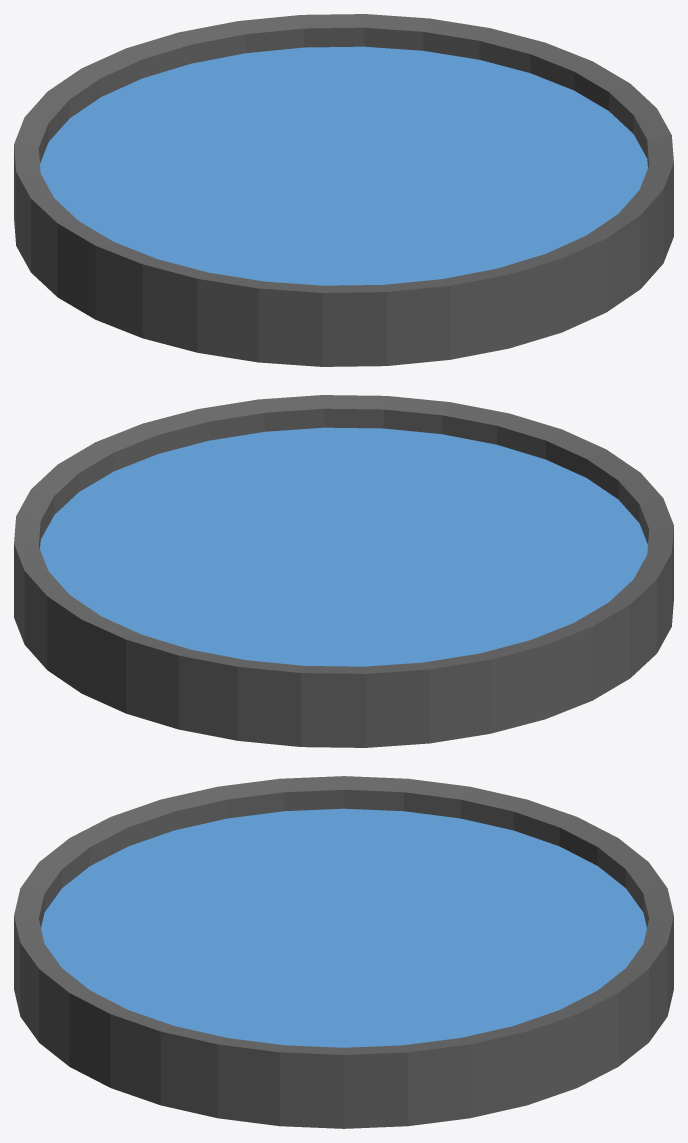
Rendered from clock.fbx.
3 views of the same model, one above another, from view 1: azimuth 30°, elevation 25°; view 2: azimuth 150°, elevation 25°; view 3: azimuth 270°, elevation 25° (orthographic).
Parts seen in each view (by area): view 1: Circle; view 2: Circle; view 3: Circle.
Part boxes in pixels (x1,y1,x2,y2): Circle: (14, 14, 673, 366); Circle: (14, 395, 673, 747); Circle: (14, 776, 673, 1128).
Bounding box in the file's own units: 200 × 24.71 × 200.
